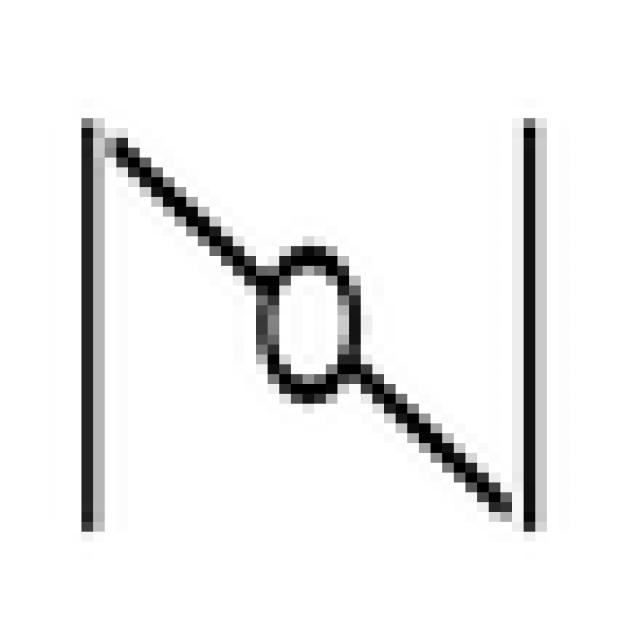Butterflyvalve: (89, 114, 535, 531)
